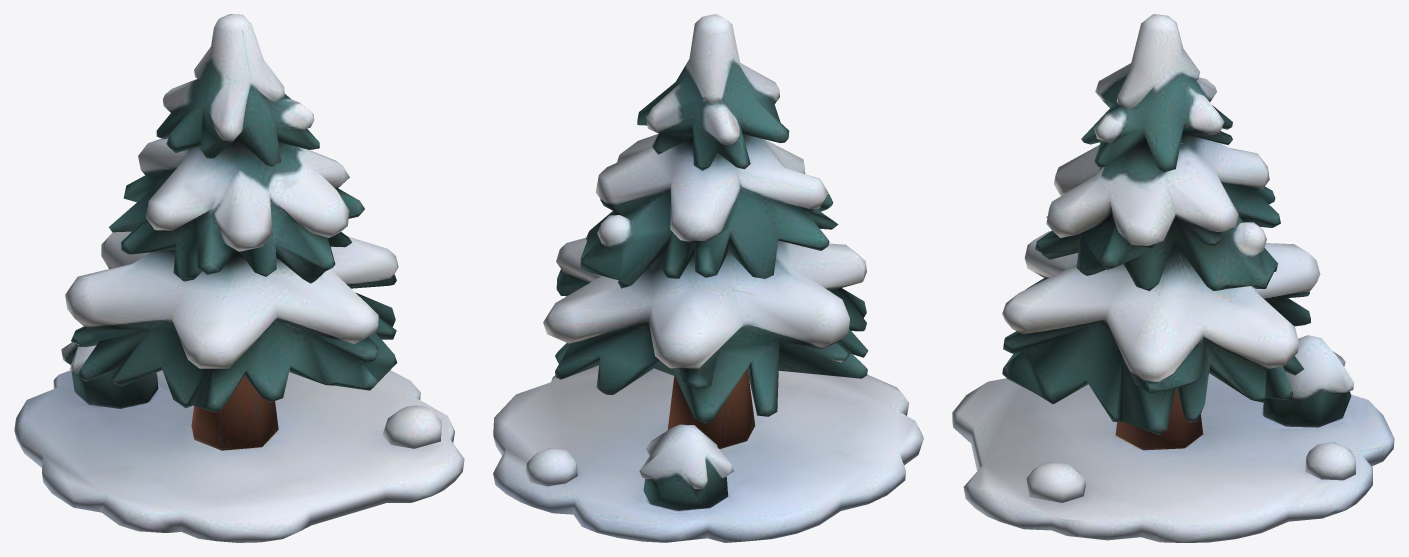
The model's file is pine.glb.
3 renders of one model, left to right at view 1: azimuth 30°, elevation 25°; view 2: azimuth 150°, elevation 25°; view 3: azimuth 270°, elevation 25°, orthographic.
Parts seen in each view (by area): view 1: tripo_node_13425158-274c-4db4-9e88-b317d621cb03; view 2: tripo_node_13425158-274c-4db4-9e88-b317d621cb03; view 3: tripo_node_13425158-274c-4db4-9e88-b317d621cb03.
Boxes of the visible parts, bbox=[...] form: tripo_node_13425158-274c-4db4-9e88-b317d621cb03: bbox=[14, 14, 464, 542]; tripo_node_13425158-274c-4db4-9e88-b317d621cb03: bbox=[493, 14, 923, 542]; tripo_node_13425158-274c-4db4-9e88-b317d621cb03: bbox=[952, 14, 1394, 542].
Bounding box in the file's own units: 0.8926 × 0.998 × 0.9199.
Materials: 1 (1 with a texture image).
